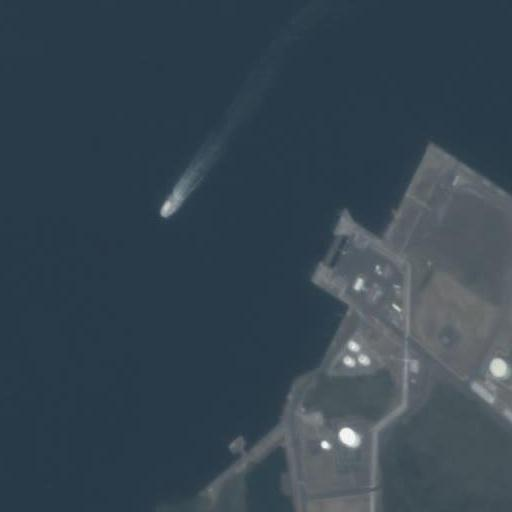person: (160, 199, 177, 217)
